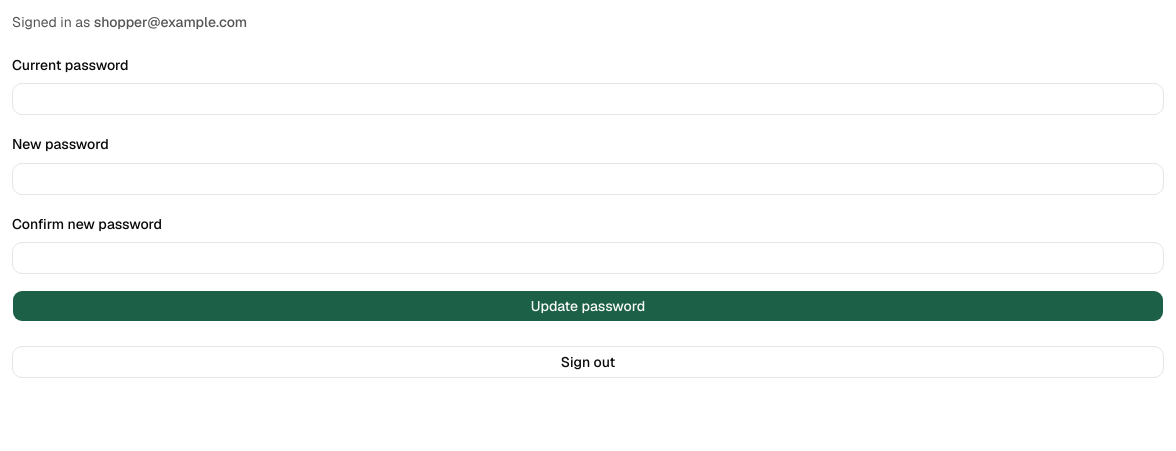
ChangePasswordForm › validates password difference and confirmation locally
The width and height of the screenshot is (1176, 451).
Type "Customer123!" into the password field labelled "Current password" at [588, 99], box [12,83,1164,115]
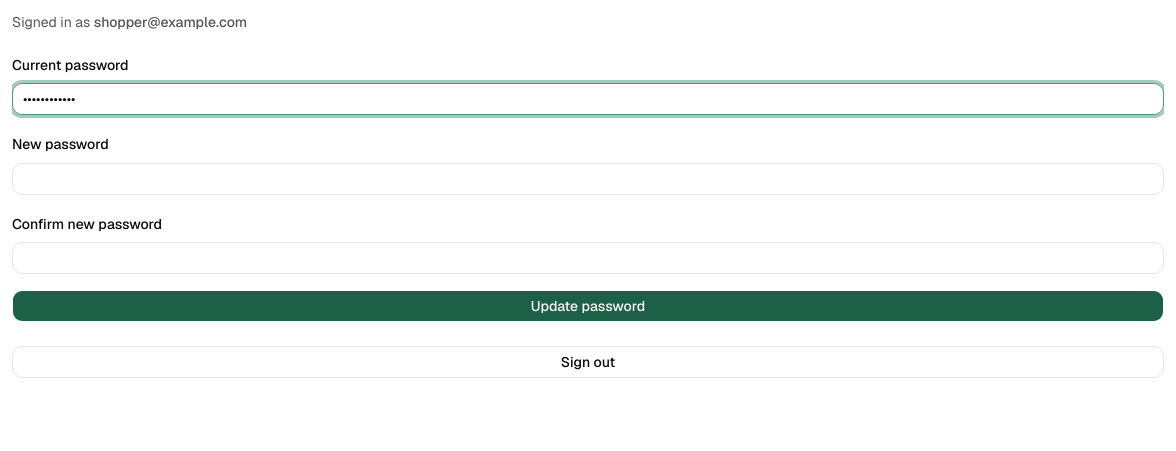
Type "Customer123!" into the password field labelled "New password" at [588, 178], box [12,162,1164,194]
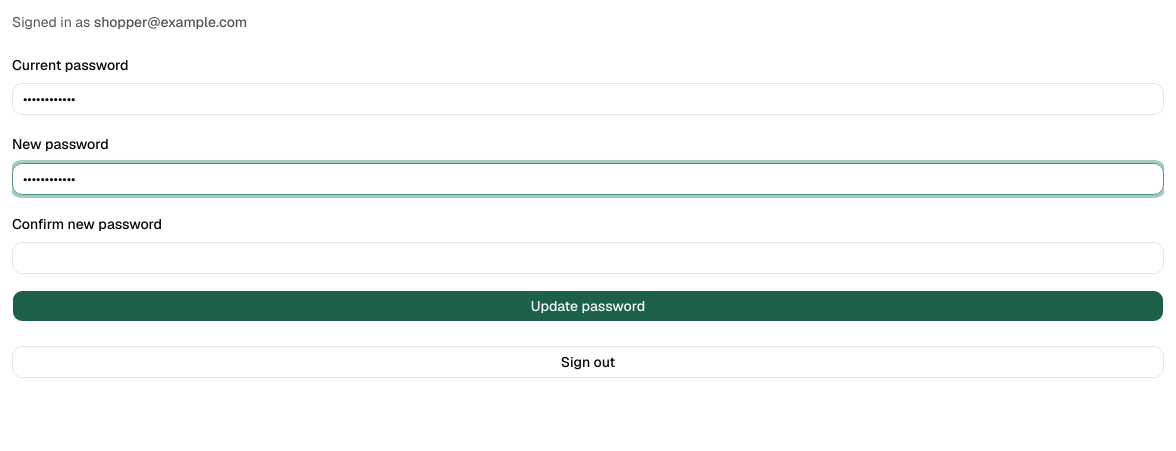
Type "Different123!" into the password field labelled "Confirm new password" at [588, 258], box [12,242,1164,274]
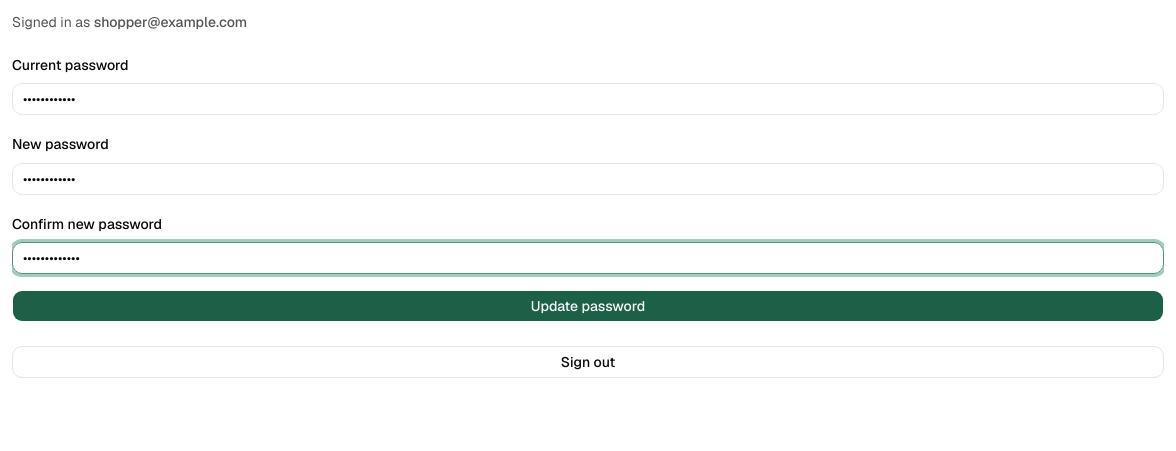
Click the button "Update password" at [588, 306], box [12,290,1164,322]
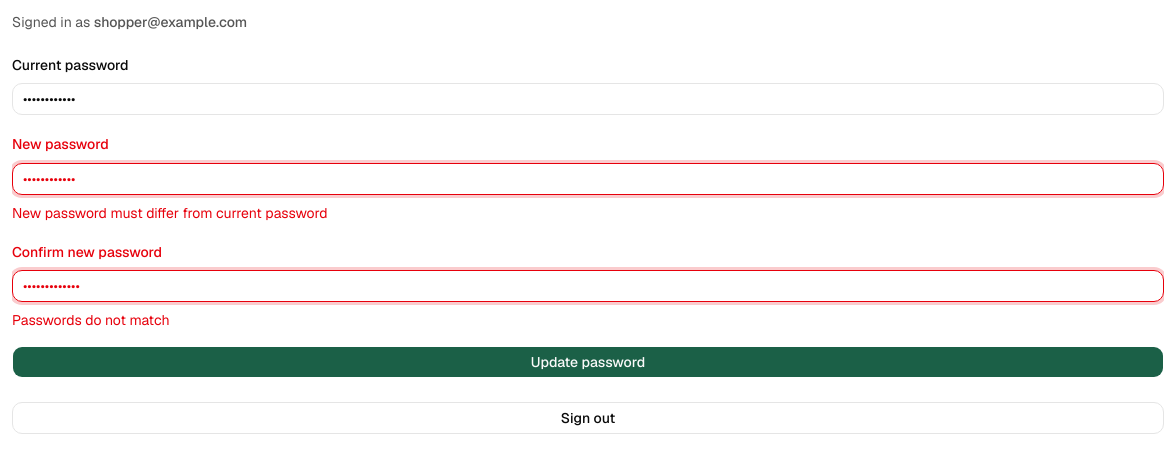
Check: the text "New password must differ from current password" is shown, box [12,204,328,222]
Check: the text "Passwords do not match" is shown, box [12,311,170,329]
